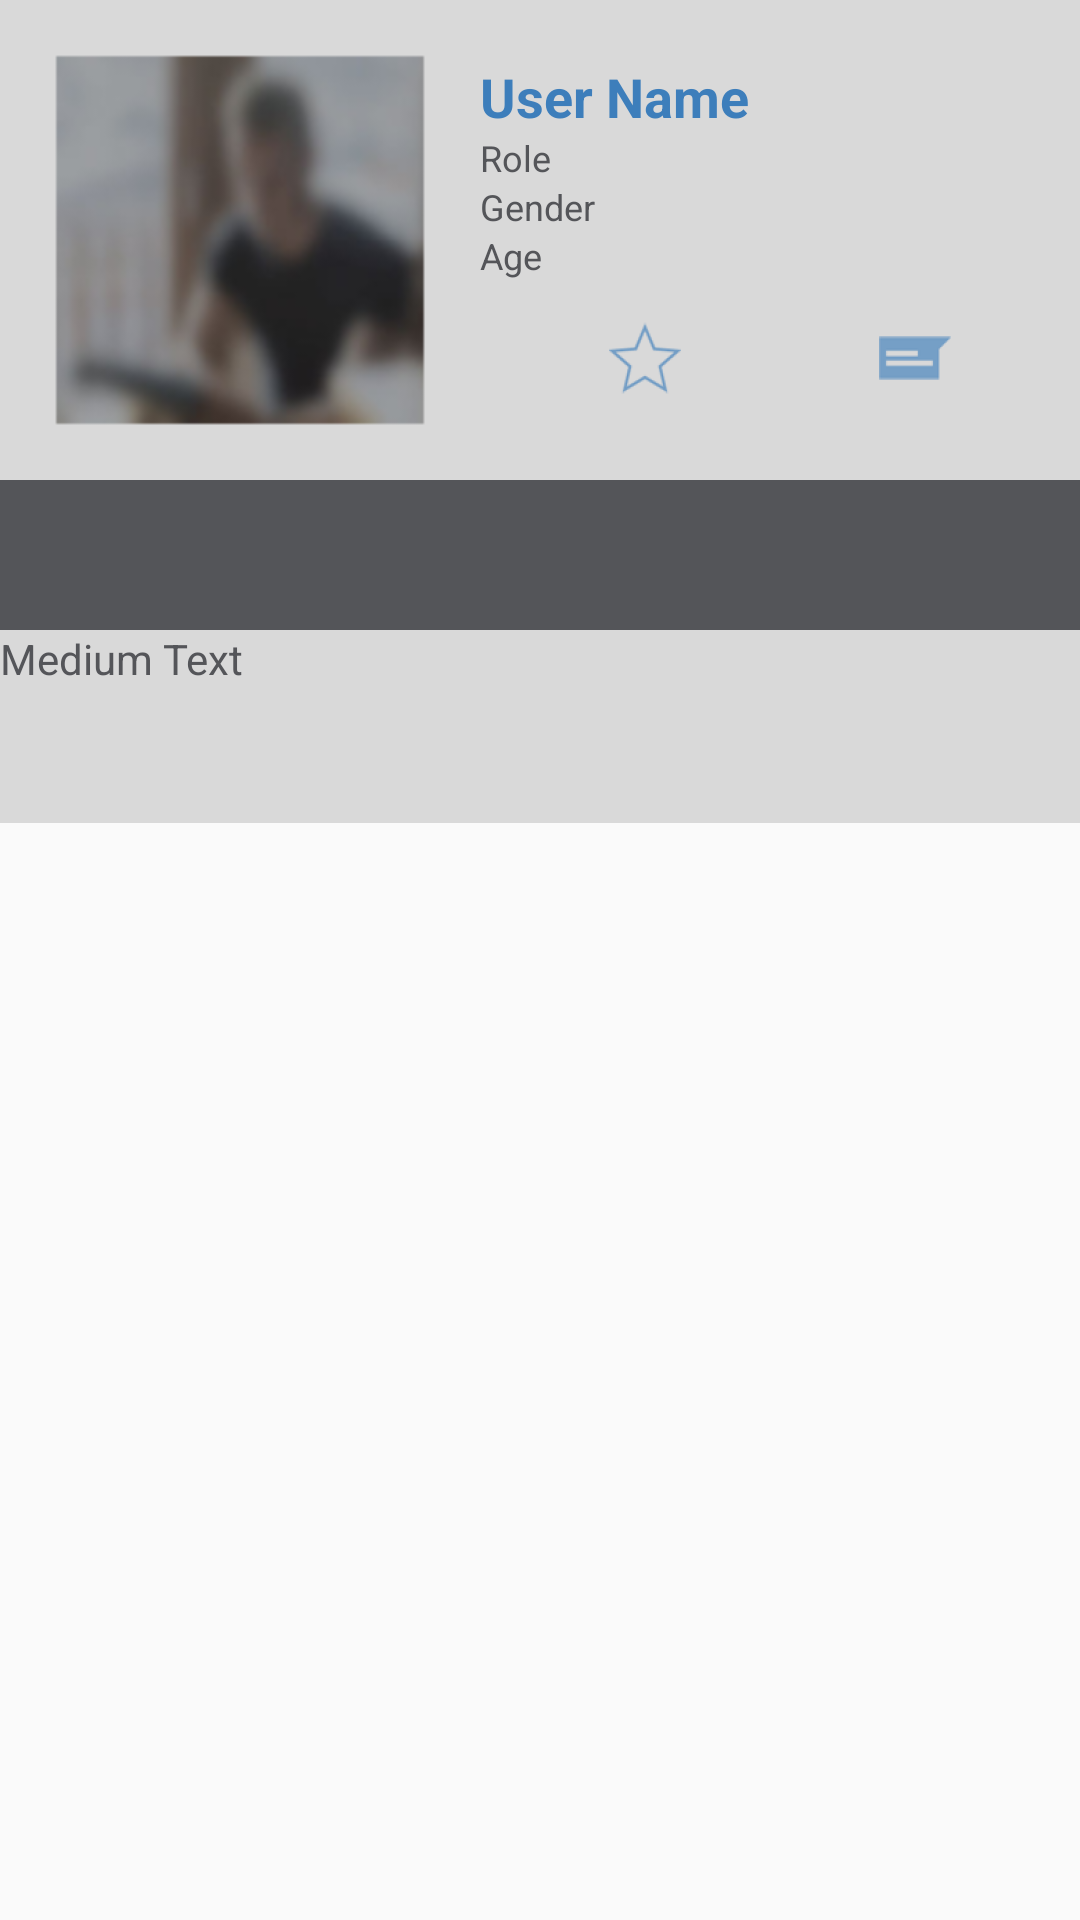

Icons on this 1080×1920 Android screen, each with its box as (x1, y1, x2, y2):
favorite: (609, 324, 681, 393)
message: (879, 336, 951, 380)
